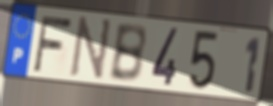1: (244, 36, 262, 96)
4: (150, 26, 178, 88)
5: (185, 28, 222, 92)
B: (107, 22, 148, 85)
F: (31, 14, 75, 74)
N: (67, 15, 115, 84)
